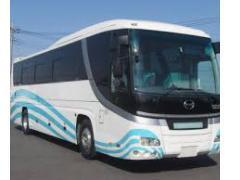bus: (11, 18, 221, 170)
